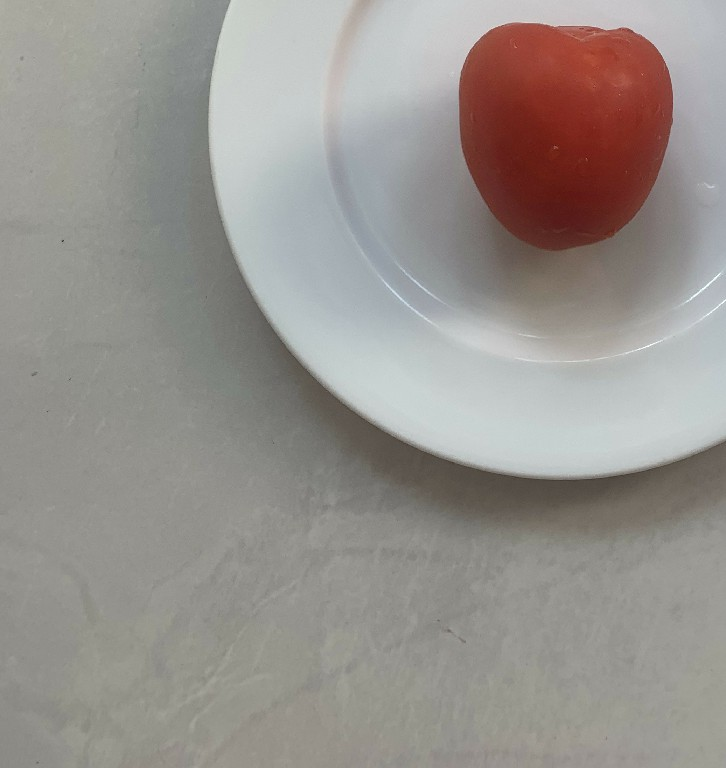OK: (447, 14, 681, 259)
